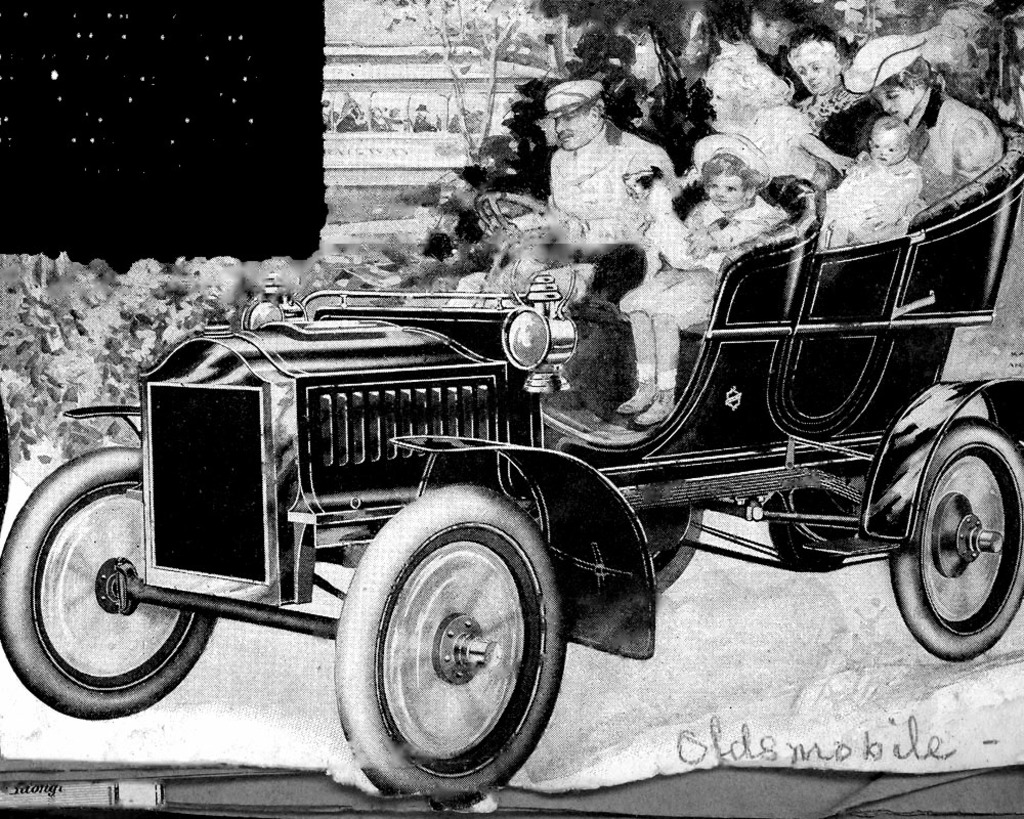Car: (0, 114, 1022, 813)
